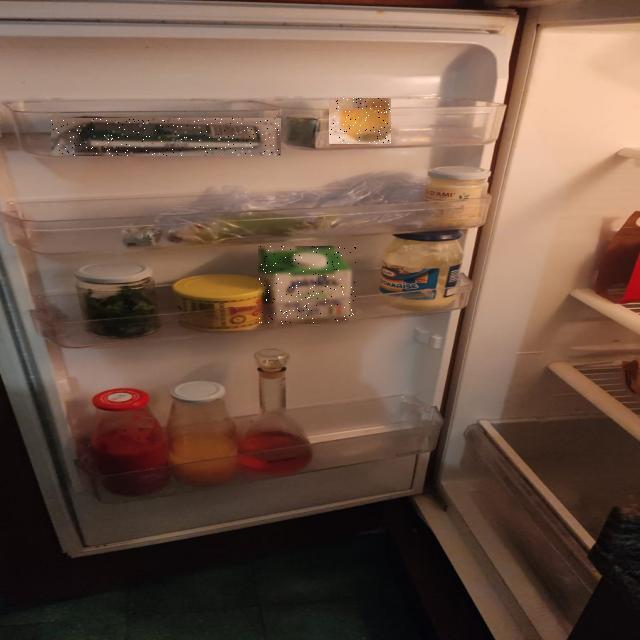milk: (80, 162, 438, 486)
